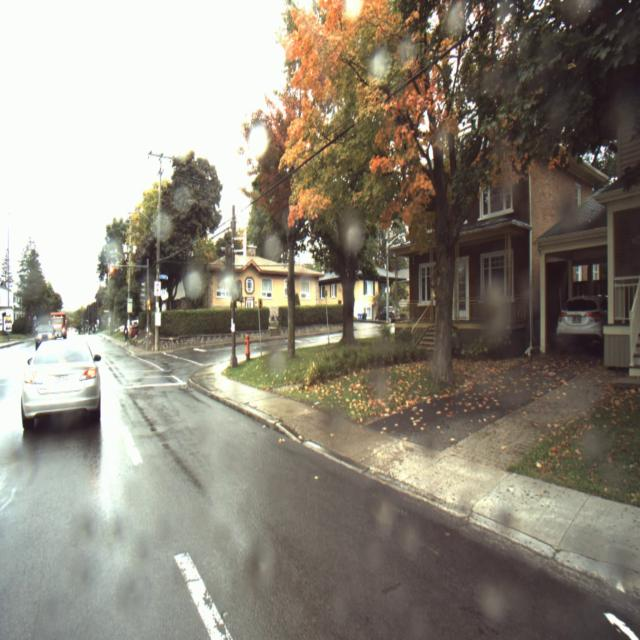trafficLight-Red: (105, 262, 118, 273)
